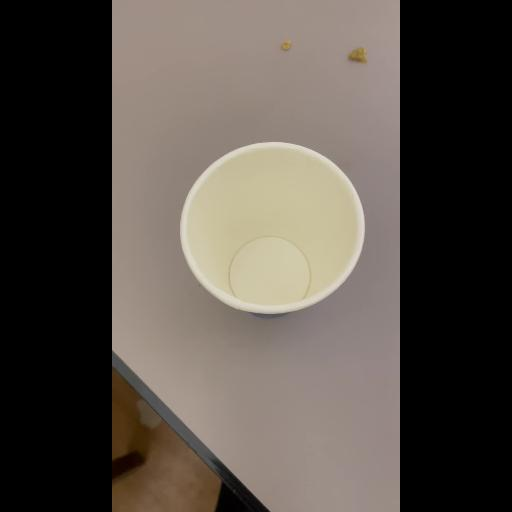lp_paper_cup: (176, 135, 366, 323)
